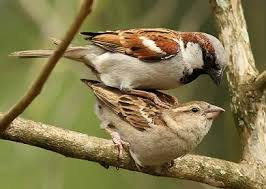hsparrow: (8, 24, 236, 101), (80, 73, 230, 176)
